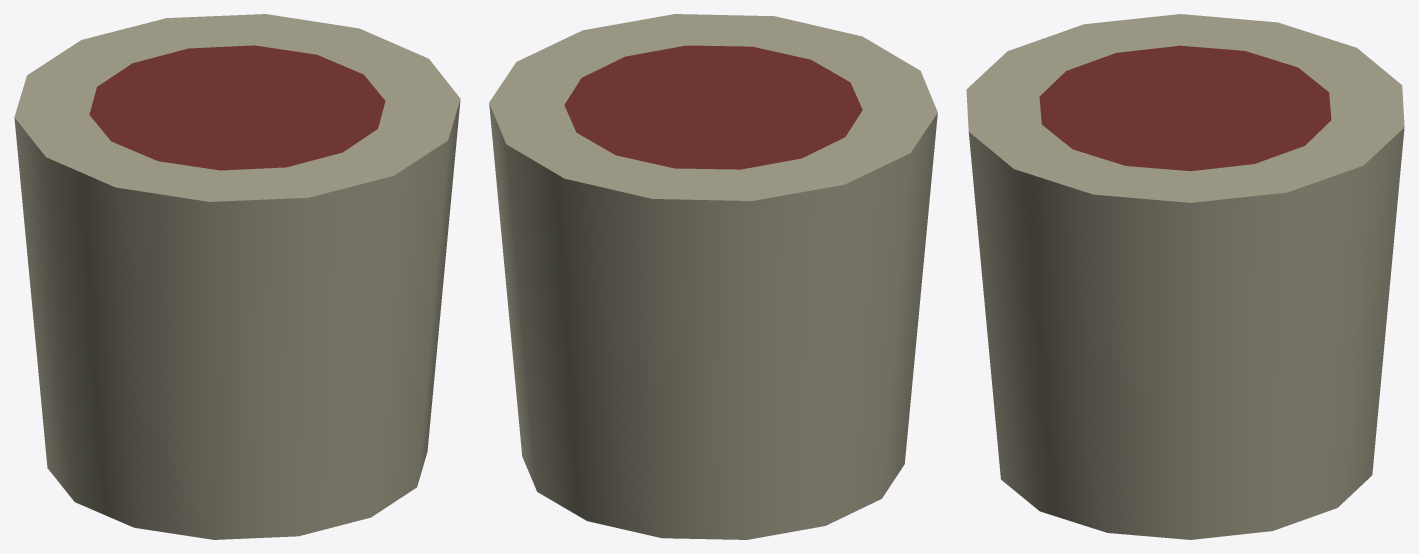
The model's file is flower_pot_01.fbx.
3 renders of one model, left to right at view 1: azimuth 30°, elevation 25°; view 2: azimuth 150°, elevation 25°; view 3: azimuth 270°, elevation 25°, orthographic.
Visible parts, largest first — view 1: flower_pot_01; view 2: flower_pot_01; view 3: flower_pot_01.
Part boxes in pixels (x1=…): flower_pot_01: x1=14, y1=14, x2=460, y2=539; flower_pot_01: x1=489, y1=14, x2=937, y2=539; flower_pot_01: x1=966, y1=14, x2=1404, y2=539.
Size of the model in its own units: 98.27 by 85.14 by 96.31.
